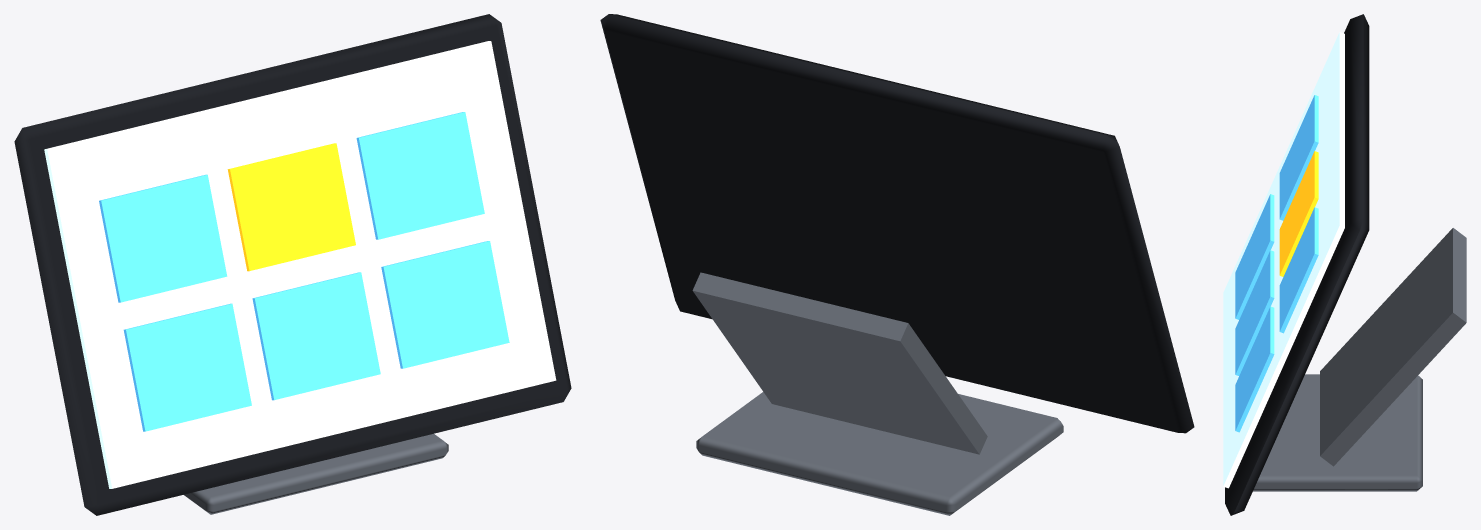
File: station_transport_ausstattung_2_2.glb
3 renders of one model, left to right at view 1: azimuth 30°, elevation 25°; view 2: azimuth 150°, elevation 25°; view 3: azimuth 270°, elevation 25°, orthographic. The views are drawn at different scales.
Visible parts, largest first — view 1: station_transport_ausstattung_2_2; view 2: station_transport_ausstattung_2_2; view 3: station_transport_ausstattung_2_2.
Boxes of the visible parts, x1,y1,x2,y2 form: station_transport_ausstattung_2_2: (14,14,571,515); station_transport_ausstattung_2_2: (600,14,1194,515); station_transport_ausstattung_2_2: (1223,14,1466,515).
Size of the model in its own units: 0.34 by 0.2425 by 0.1646.
